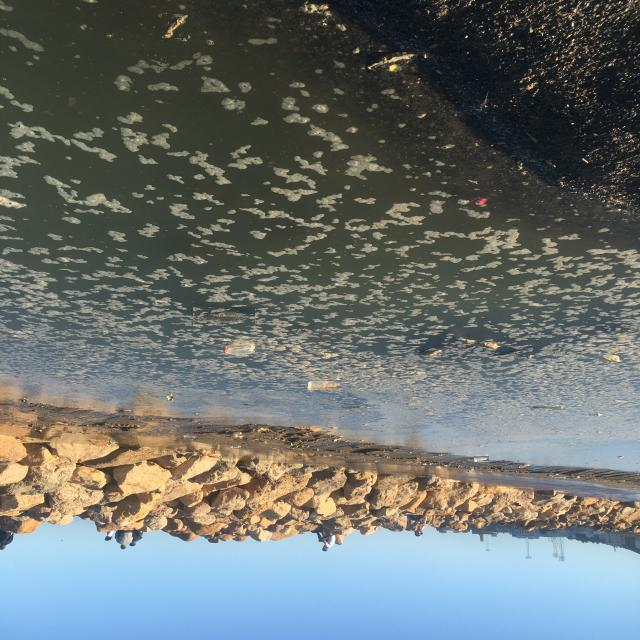Bottle cap: (381, 63, 396, 72)
Can: (166, 396, 173, 402)
Plastic bag: (192, 307, 255, 326)
Plastic bottle: (223, 345, 254, 357), (307, 380, 341, 390), (599, 353, 623, 362), (474, 456, 489, 462), (181, 434, 198, 439), (518, 464, 530, 467)
Plastic packaging: (471, 195, 490, 208)
Wood: (366, 52, 418, 73), (162, 14, 188, 38), (530, 404, 563, 410)
